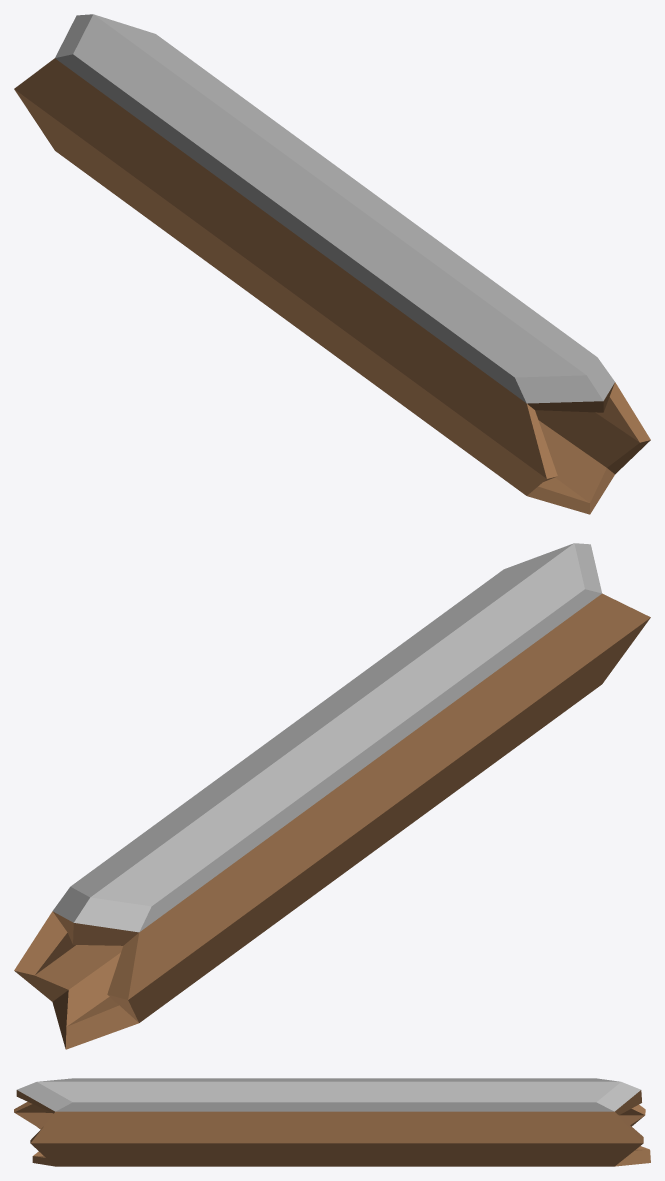
File: Branch_3 Winter.fbx
The picture shows the model from 3 angles, top to bottom: view 1: azimuth 30°, elevation 25°; view 2: azimuth 150°, elevation 25°; view 3: azimuth 270°, elevation 25°; orthographic projection. The views are drawn at different scales.
Parts seen in each view (by area): view 1: Branch2Winter_mesh; view 2: Branch2Winter_mesh; view 3: Branch2Winter_mesh.
Boxes of the visible parts, bbox=[...] form: Branch2Winter_mesh: bbox=[14, 14, 650, 514]; Branch2Winter_mesh: bbox=[14, 543, 650, 1049]; Branch2Winter_mesh: bbox=[14, 1078, 650, 1166].
Size of the model in its own units: 34.54 by 38.33 by 273.
